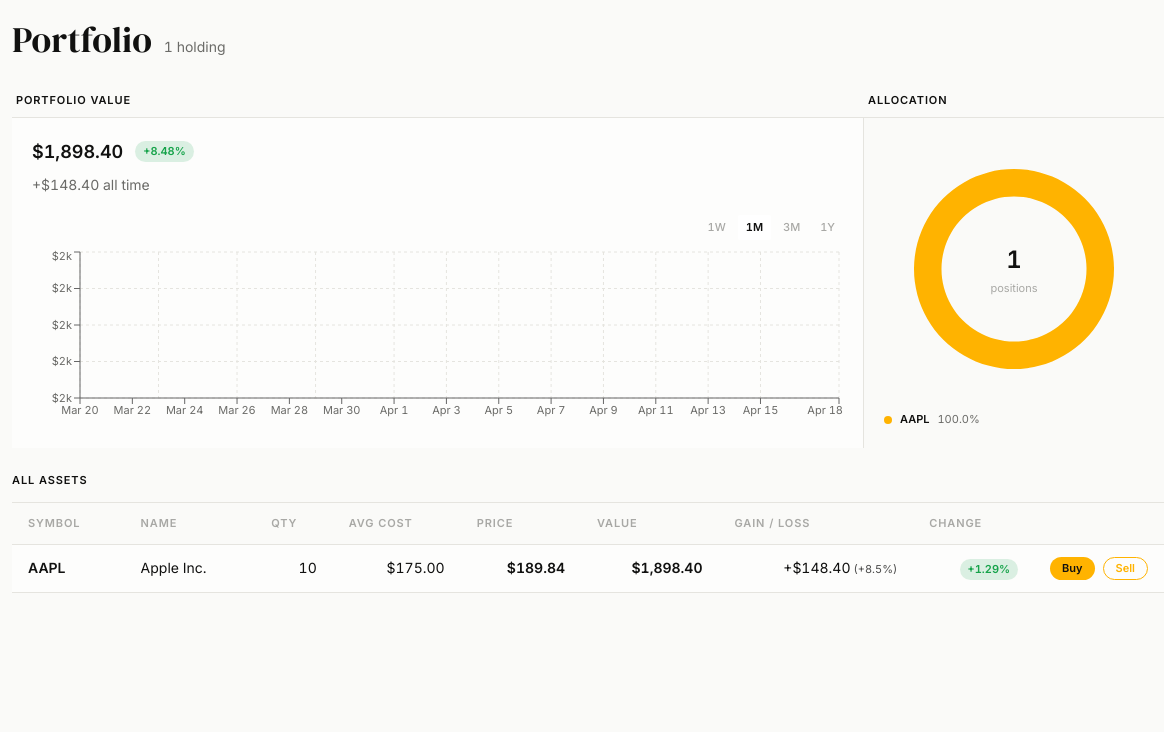
Test: Portfolio page — sell flow › sell panel opens when Sell button is clicked
Click the button "Sell" at (1125, 568), box [1103,557,1148,580]
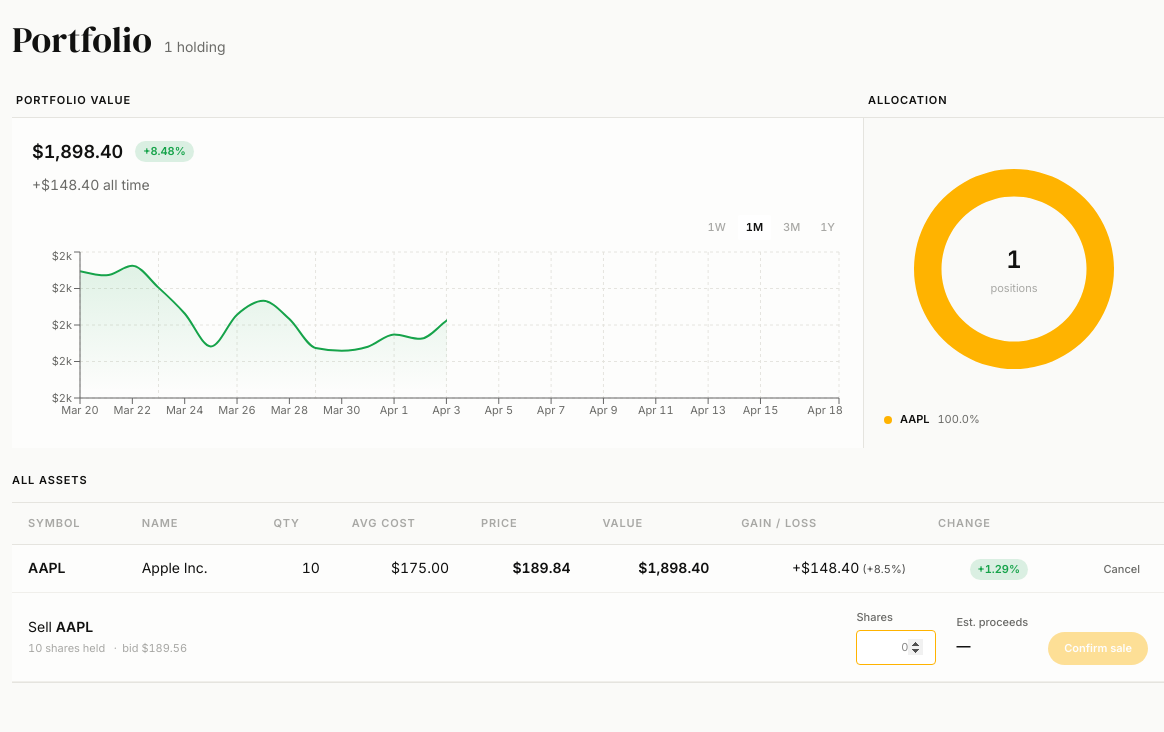
Expected: the button "Confirm sale" is shown, [1048,632,1148,665]
